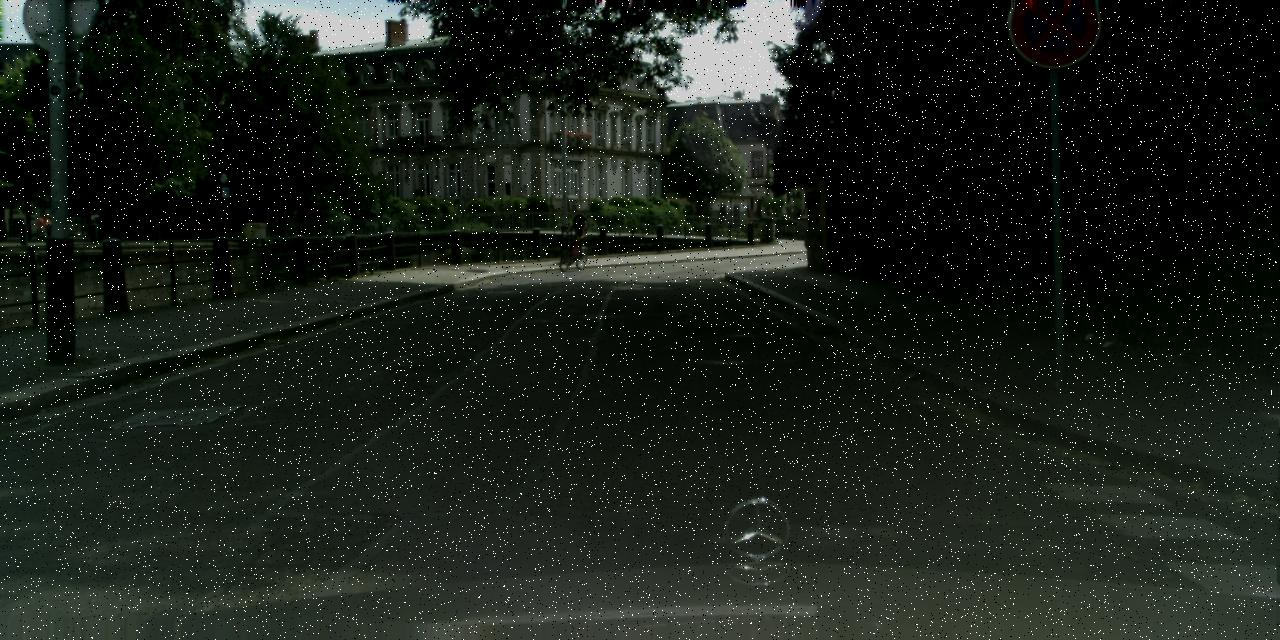ped: (569, 214, 586, 257), (36, 213, 47, 240), (42, 214, 52, 237)
